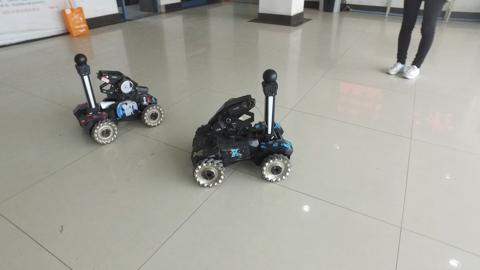chariot: (186, 66, 296, 191), (70, 51, 168, 147)
